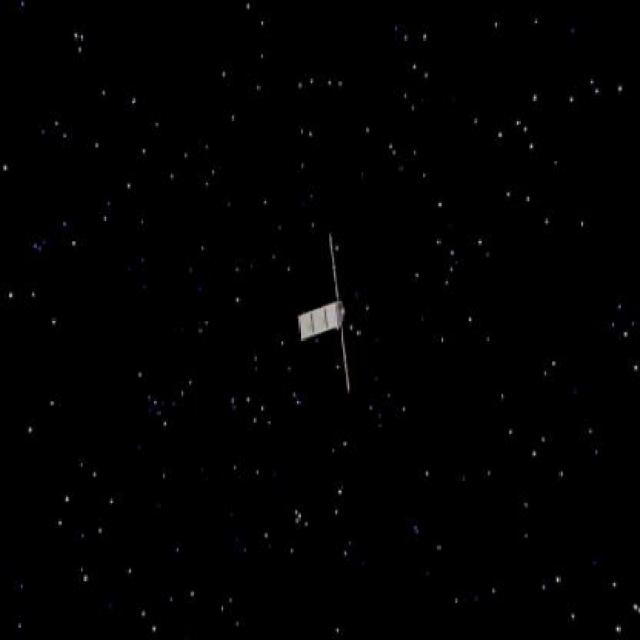satellite: (290, 219, 372, 408)
